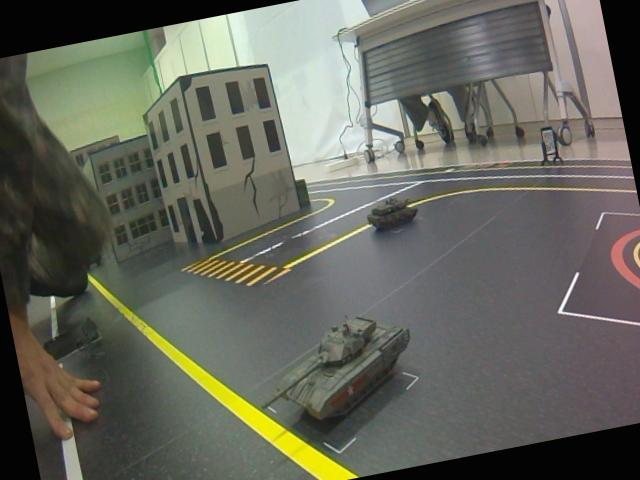Tank: (243, 302, 427, 436), (360, 189, 422, 234)
